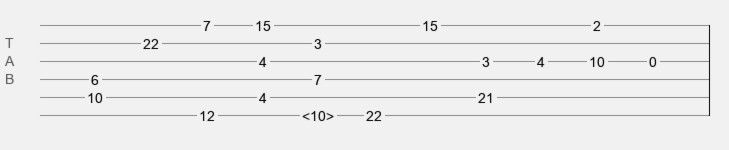0: (649, 54, 657, 64)
10: (87, 90, 103, 100), (589, 54, 605, 64)
12: (199, 108, 215, 118)
15: (255, 18, 271, 28), (422, 18, 438, 28)
2: (593, 18, 601, 28)
21: (478, 90, 494, 100)
22: (143, 36, 159, 46), (366, 108, 382, 118)
3: (314, 36, 322, 46), (482, 54, 490, 64)
4: (259, 54, 267, 64), (259, 90, 267, 100), (537, 54, 545, 64)
6: (91, 72, 99, 82)
7: (203, 18, 211, 28), (314, 72, 322, 82)
harmonic: (302, 108, 334, 118)
